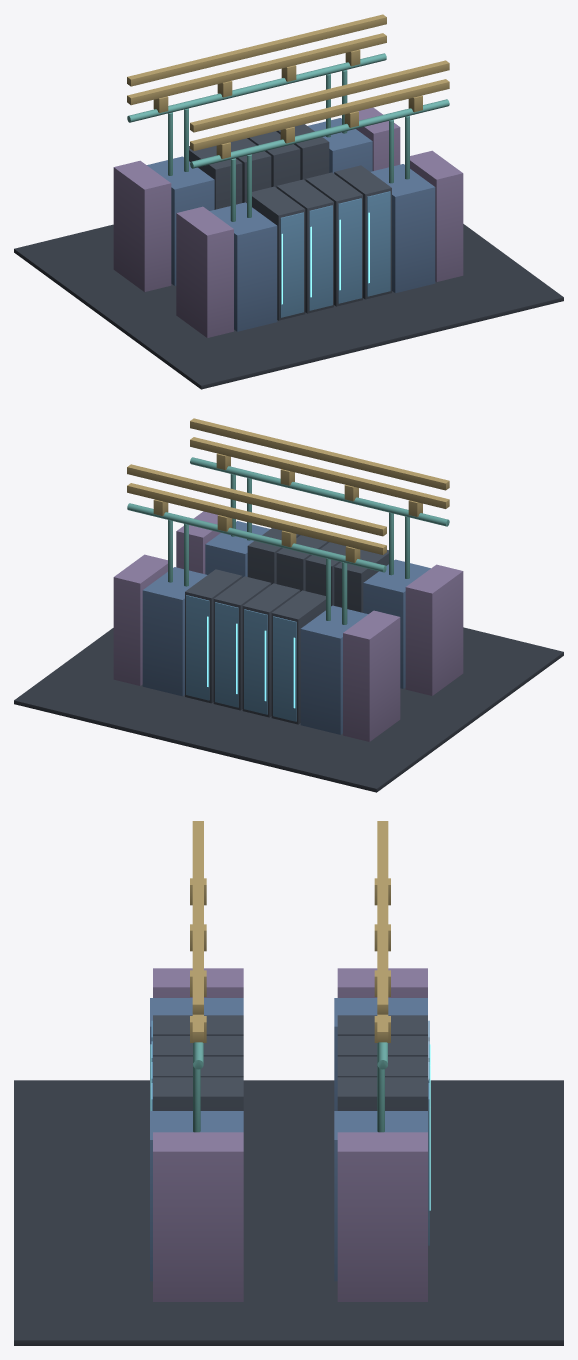
The model's file is b200-liquid.glb.
3 renders of one model, top to bottom at view 1: azimuth 30°, elevation 25°; view 2: azimuth 150°, elevation 25°; view 3: azimuth 270°, elevation 25°, orthographic. The views are drawn at different scales.
Visible parts, largest first — view 1: floor, fabric-B1, fabric-A1, cdu-A1, cdu-A2, fabric-A2, busway-A2, busway-B1, busway-B2, busway-A1, cdu-B1, rack-A3-door (+15 smaller); view 2: floor, fabric-A1, fabric-B1, cdu-B1, cdu-B2, fabric-B2, busway-A2, busway-B2, busway-B1, busway-A1, cdu-A1, rack-B2-door (+15 smaller); view 3: floor, fabric-A2, fabric-B2, rack-A4, rack-B4, cdu-B2, cdu-A2, busway-A2, busway-B2, fabric-B1, fabric-A1, cdu-B1 (+7 smaller).
Boxes of the visible parts, x1,y1,x2,y2 form: floor: (14,224,563,389); fabric-B1: (113,160,171,291); fabric-A1: (176,206,233,337); cdu-A1: (209,202,277,331); cdu-A2: (371,164,435,293); fabric-A2: (410,150,463,281); busway-A2: (190,60,449,132); busway-B1: (127,33,386,105); busway-B2: (127,14,386,86); busway-A1: (190,79,449,150); cdu-B1: (147,156,214,285); rack-A3-door: (338,198,361,303); floor: (14,627,563,792); fabric-A1: (405,564,463,695); fabric-B1: (343,610,400,741); cdu-B1: (300,605,368,734); cdu-B2: (142,567,207,696); fabric-B2: (113,554,167,685); busway-A2: (190,418,449,490); busway-B2: (127,464,386,536); busway-B1: (127,483,386,554); busway-A1: (190,437,449,508); cdu-A1: (363,559,430,688); rack-B2-door: (244,609,267,714); floor: (14,1080,563,1345); fabric-A2: (153,1132,243,1301); fabric-B2: (337,1132,427,1301); rack-A4: (153,1077,243,1110); rack-B4: (337,1077,427,1110); cdu-B2: (334,1111,427,1281); cdu-A2: (150,1111,243,1281); busway-A2: (192,821,203,1014); busway-B2: (377,821,388,1014); fabric-B1: (337,968,427,997); fabric-A1: (153,968,243,997); cdu-B1: (334,998,427,1110).
Size of the model in its own units: 8.15 by 4.43 by 7.29.
